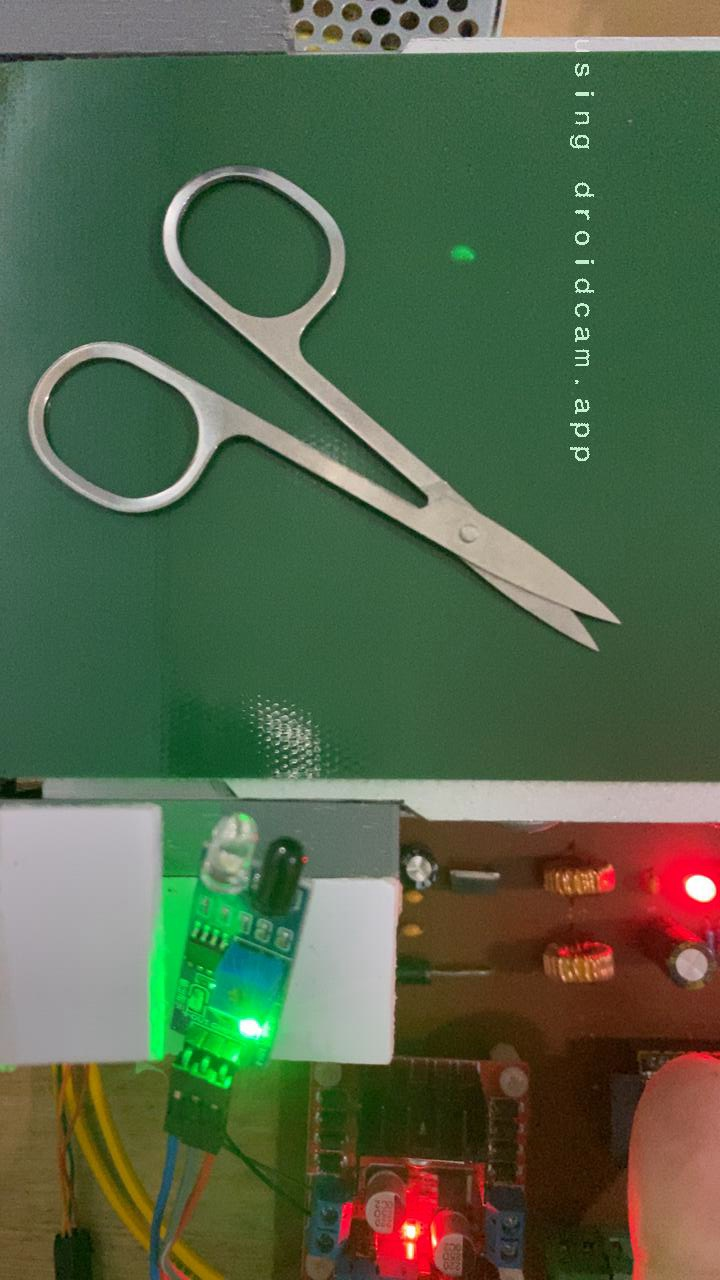scissor: (21, 160, 628, 659)
